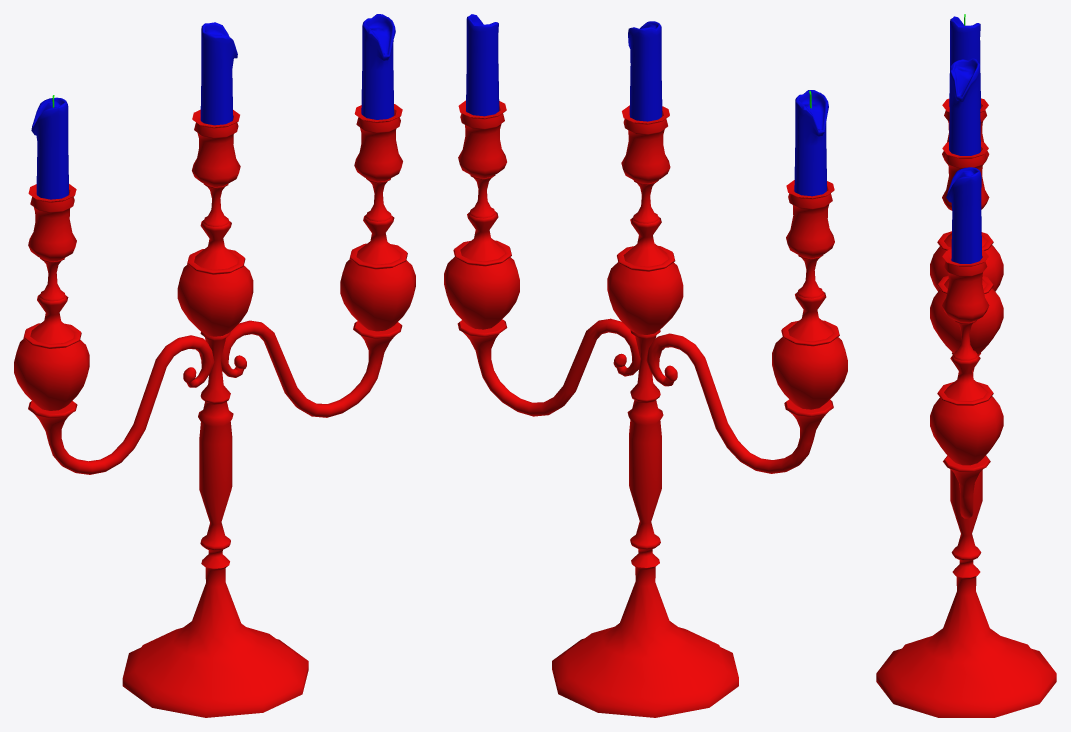
File: candle holder_Small.fbx
The picture shows the model from 3 angles, left to right: view 1: azimuth 30°, elevation 25°; view 2: azimuth 150°, elevation 25°; view 3: azimuth 270°, elevation 25°; orthographic projection. The views are drawn at different scales.
Visible parts, largest first — view 1: polySurface617; view 2: polySurface617; view 3: polySurface617.
Part boxes in pixels (left/top/right/bottom): polySurface617: left=14, top=14, right=415, bottom=717; polySurface617: left=444, top=14, right=847, bottom=717; polySurface617: left=876, top=14, right=1056, bottom=717.
Bounding box in the file's own units: 40.02 × 63.96 × 16.9.
